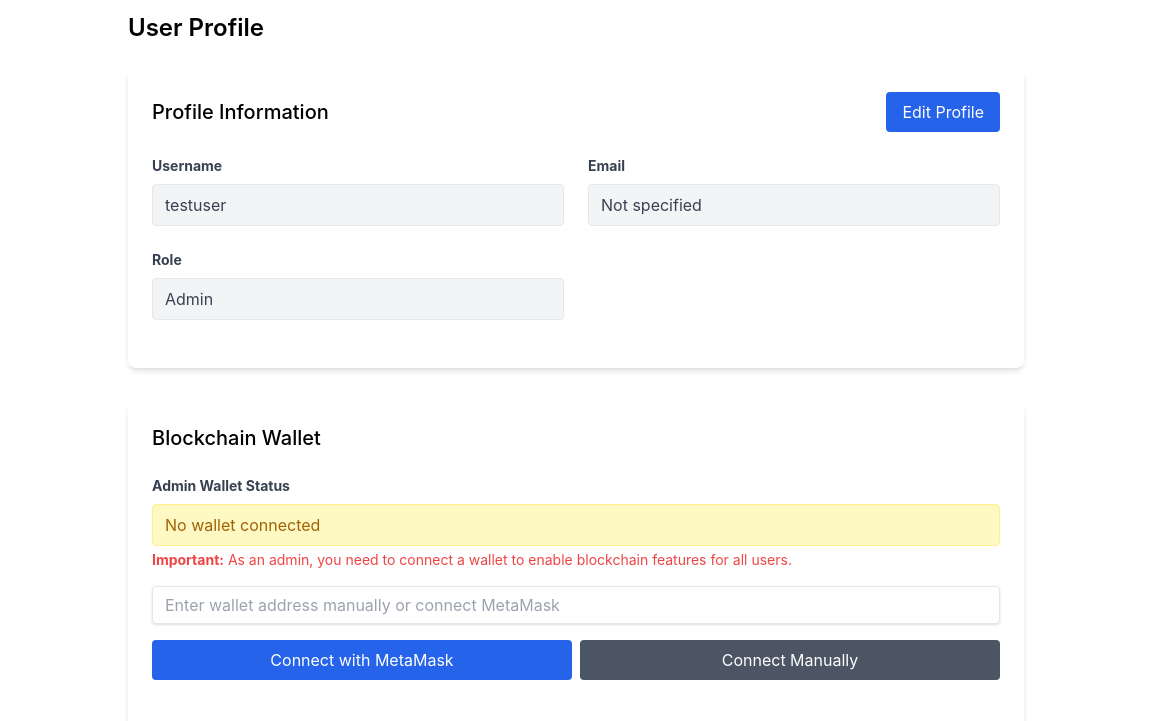
Test: Profile Component › MetaMask connection works for admin
Click the button "Connect with MetaMask" at (362, 660), box [152,640,572,680]
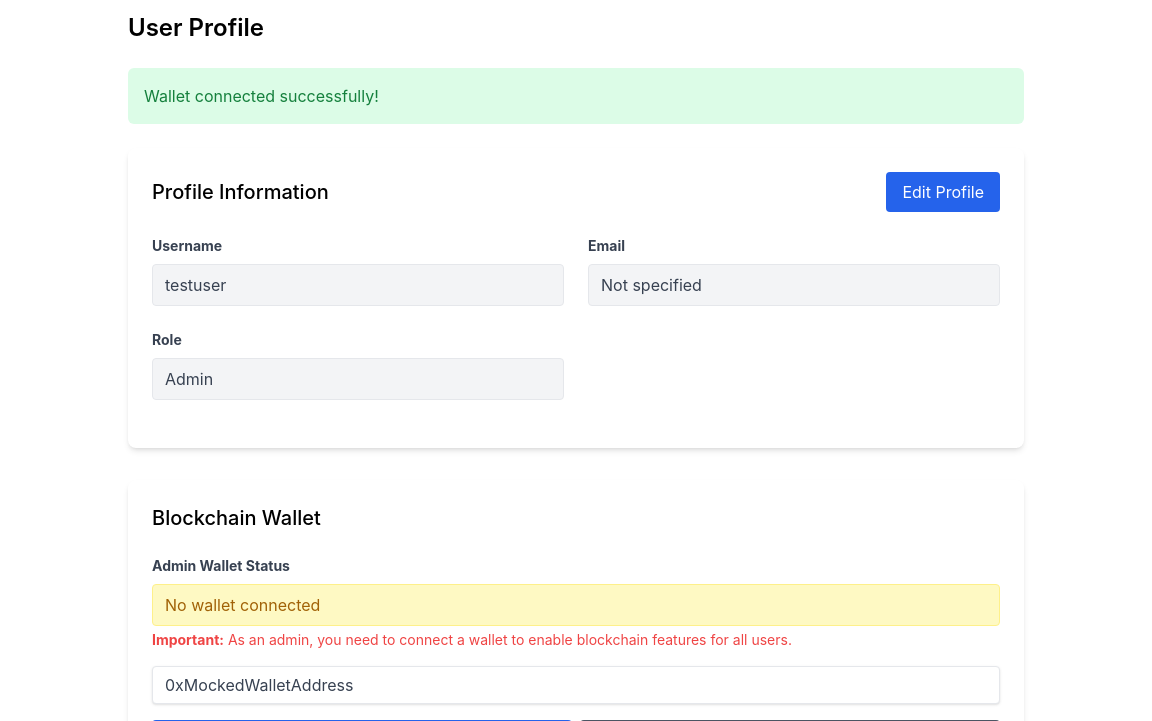
Expected: the text "Wallet connected successfully!" is shown, [128,68,1024,124]
